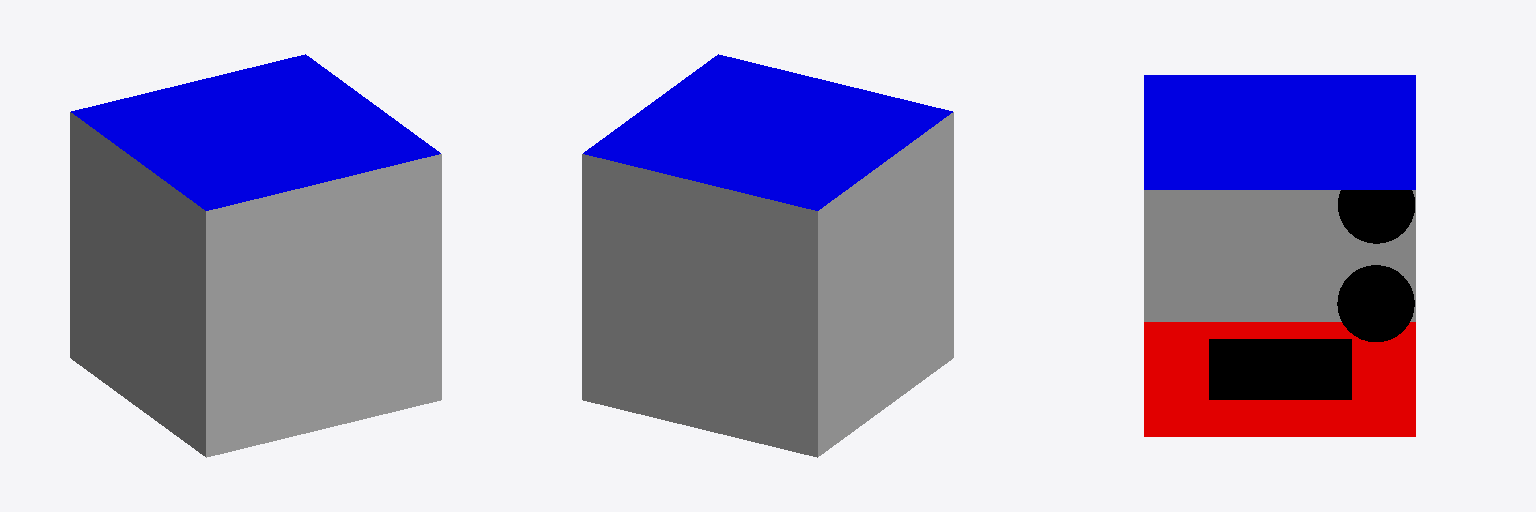
File: spheres.obj
3 views of the same model, side by side, from view 1: azimuth 30°, elevation 25°; view 2: azimuth 150°, elevation 25°; view 3: azimuth 270°, elevation 25° (orthographic).
Visible parts, largest first — view 1: Cube; view 2: Cube; view 3: Cube, Plane.001, Sphere.001, Sphere.
Boxes of the visible parts, <box> form: Cube: <box>70,54,441,457</box>; Cube: <box>582,54,953,457</box>; Cube: <box>1144,75,1415,436</box>; Plane.001: <box>1209,339,1351,399</box>; Sphere.001: <box>1337,265,1414,341</box>; Sphere: <box>1338,190,1414,243</box>.
Size of the model in its own units: 2 by 2 by 2.